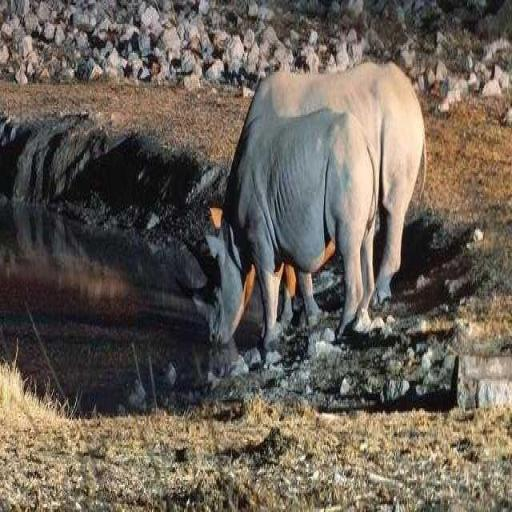Rhino: (206, 60, 426, 358)
